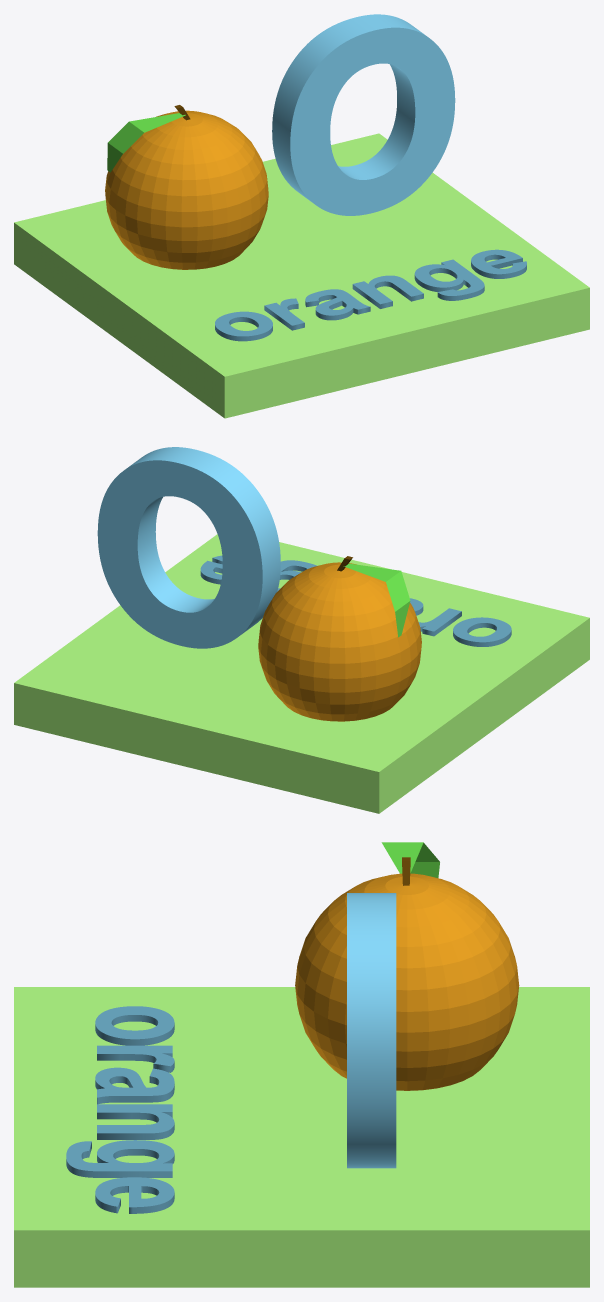
File: oletter.glb
3 renders of one model, top to bottom at view 1: azimuth 30°, elevation 25°; view 2: azimuth 150°, elevation 25°; view 3: azimuth 270°, elevation 25°, orthographic. The views are drawn at different scales.
Parts seen in each view (by area): view 1: Cube.022, Text.003, Sphere, Text.002, Plane; view 2: Cube.022, Text.003, Sphere, Text.002, Plane; view 3: Cube.022, Sphere, Text.002, Text.003, Plane.
Boxes of the visible parts, bbox=[...] form: Cube.022: bbox=[14, 133, 589, 418]; Text.003: bbox=[272, 14, 455, 215]; Sphere: bbox=[105, 110, 268, 269]; Text.002: bbox=[215, 249, 526, 341]; Plane: bbox=[107, 113, 185, 172]; Cube.022: bbox=[14, 534, 589, 813]; Text.003: bbox=[97, 447, 280, 648]; Sphere: bbox=[258, 562, 421, 721]; Text.002: bbox=[200, 555, 511, 646]; Plane: bbox=[343, 563, 410, 637]; Cube.022: bbox=[14, 987, 589, 1287]; Sphere: bbox=[295, 873, 519, 1090]; Text.002: bbox=[66, 1006, 174, 1213]; Text.003: bbox=[347, 893, 396, 1168]; Plane: bbox=[381, 842, 439, 877].
Size of the model in its own units: 0.3237 by 0.1971 by 0.3237.
